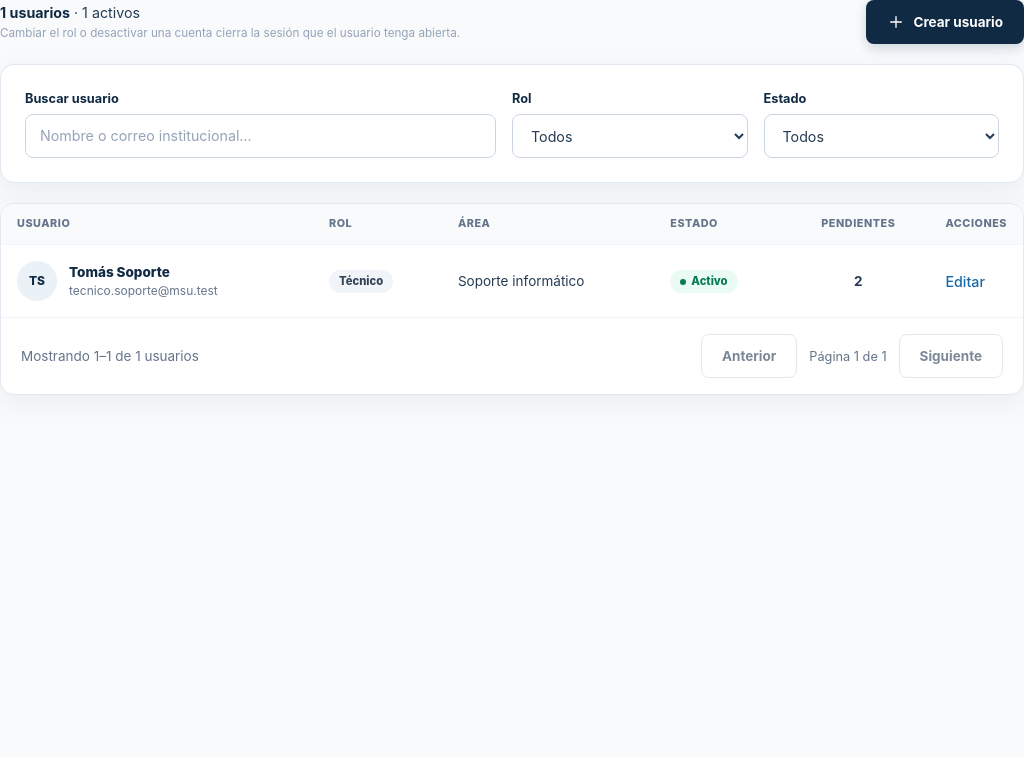
P11 Usuarios (HU20) › crea un técnico y muestra los errores del servidor junto al campo
Click the button "Crear usuario". click: (945, 22)
box: [866,0,1023,44]
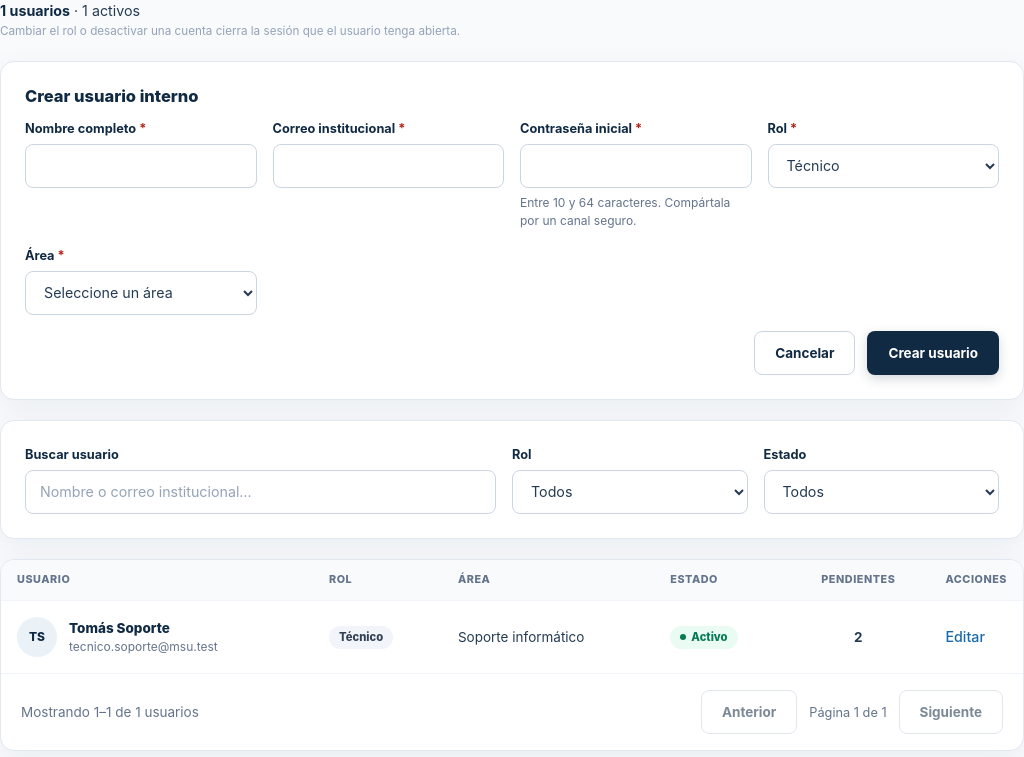
Type "Lucía Redes" into the field labelled "Nombre completo *". click: (141, 166)
box: [25,144,256,188]
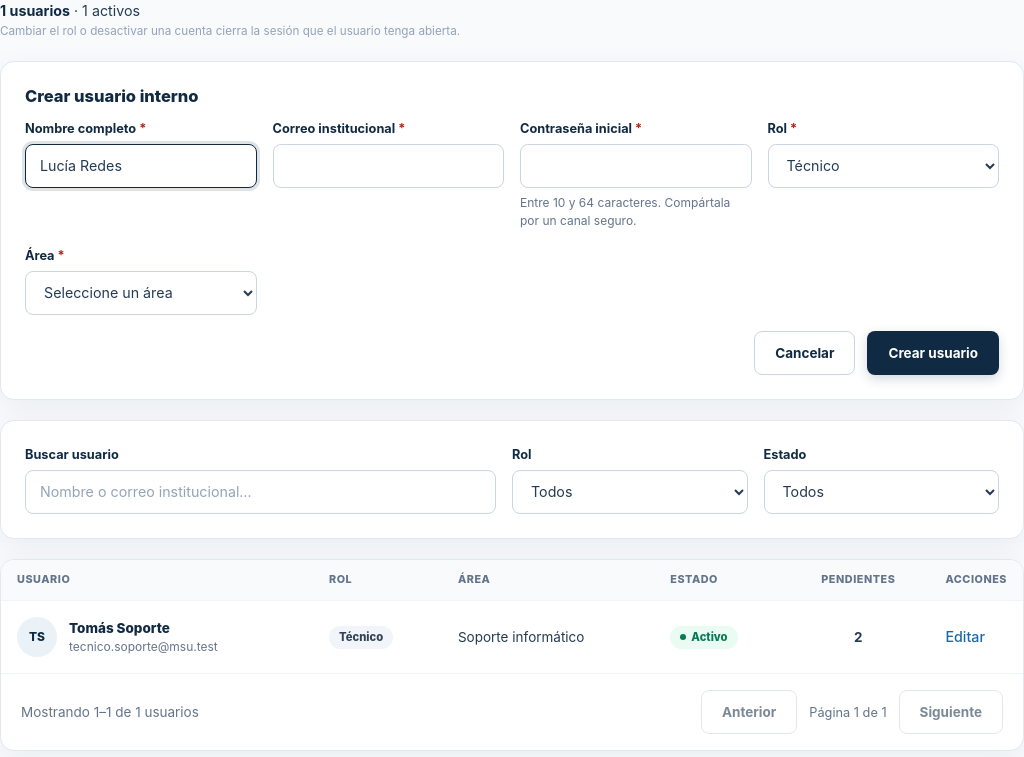
Type "lucia@msu.test" into the field labelled "Correo institucional *". click: (388, 166)
box: [272,144,504,188]
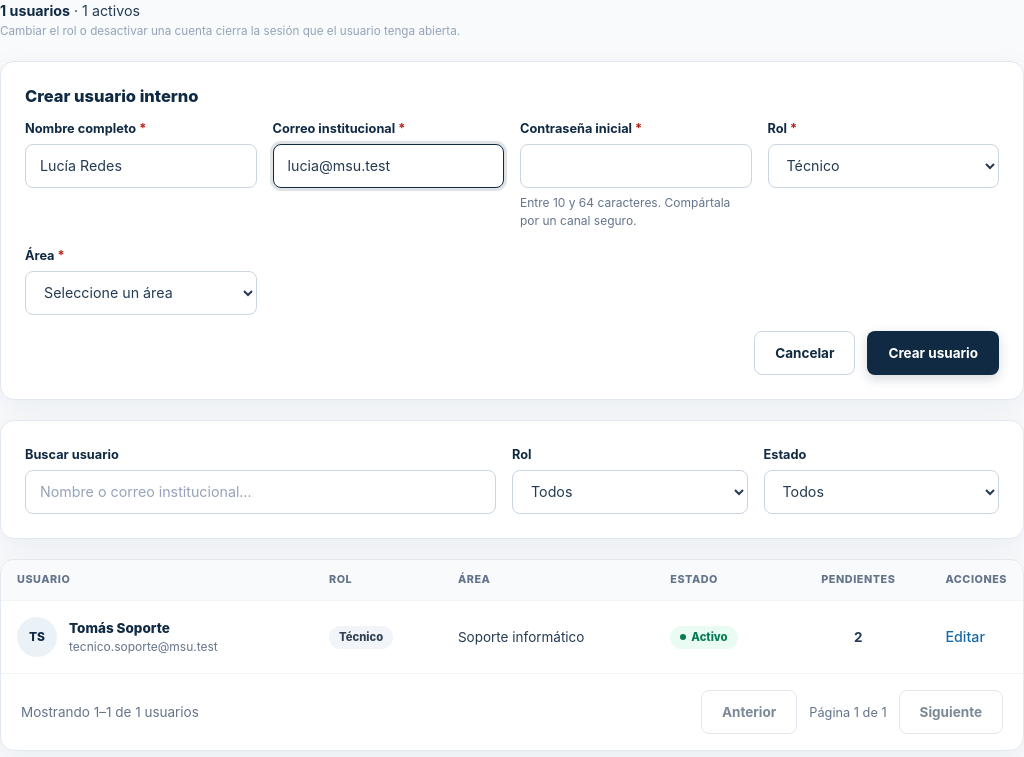
Type "Inicial12345" into the password field labelled "Contraseña inicial *". click: (636, 166)
box: [520,144,752,188]
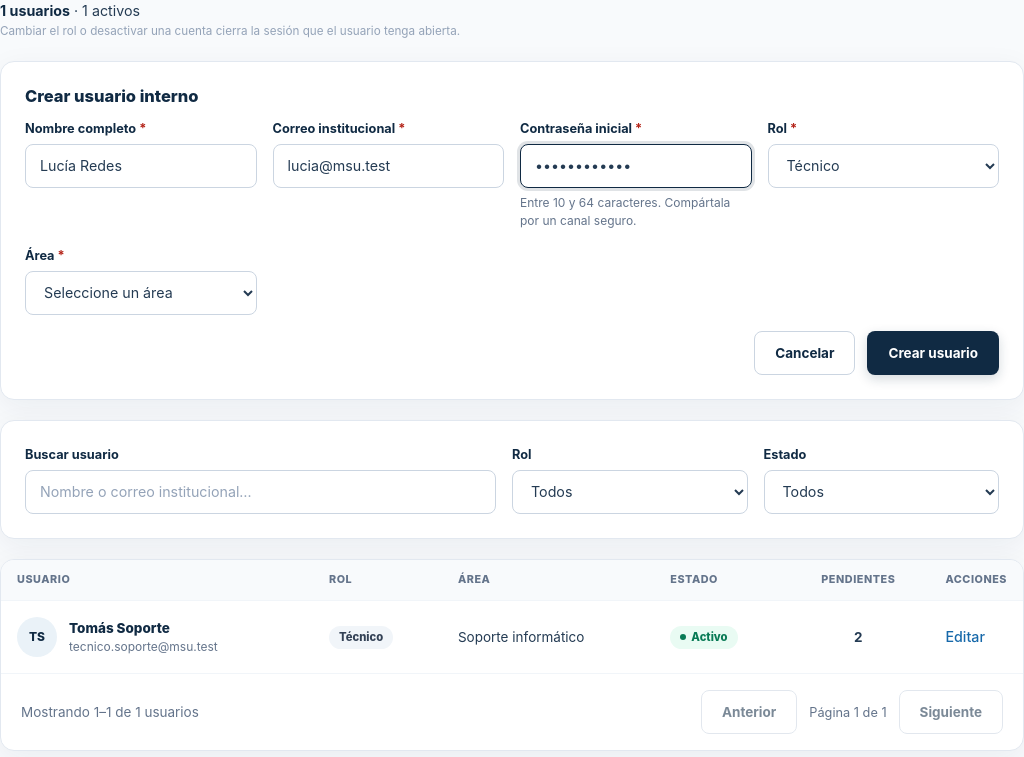
Select "Soporte informático" in the dropdown labelled "Área *". click: (141, 293)
box: [25,271,256,315]
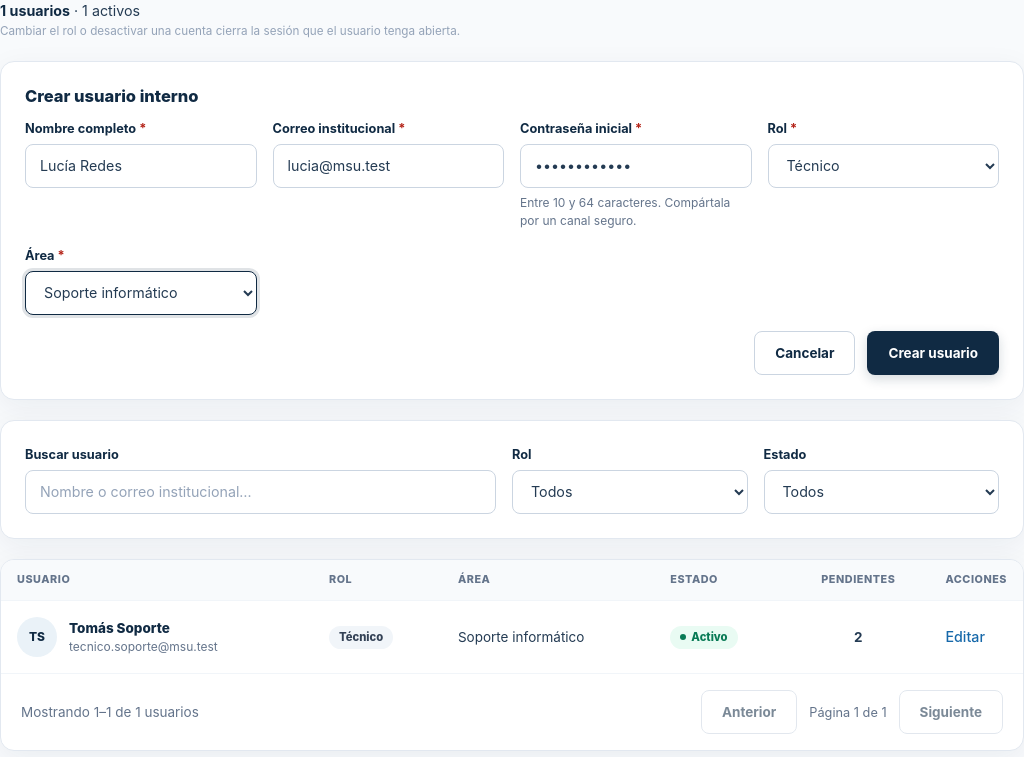
Click the button "Crear usuario". click: (933, 353)
box: [867,331,999,375]
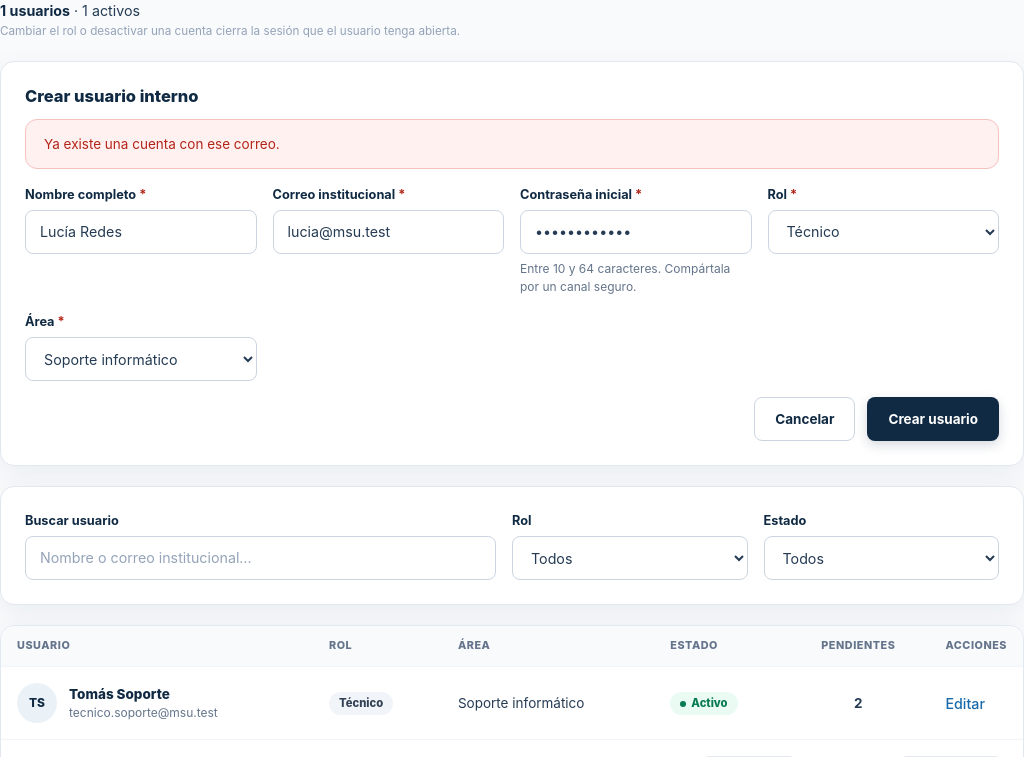
Expected: the message reads "Ya existe una cuenta con ese correo.", [44,136,280,152]
